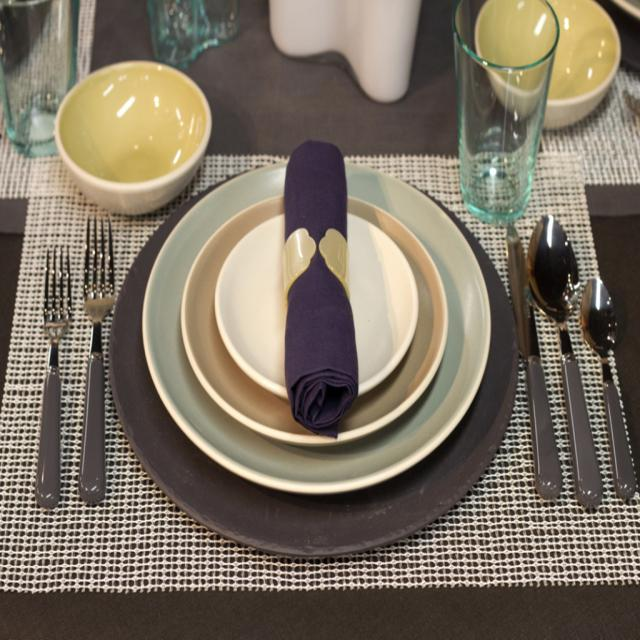non-organic waste: (110, 161, 528, 557)
